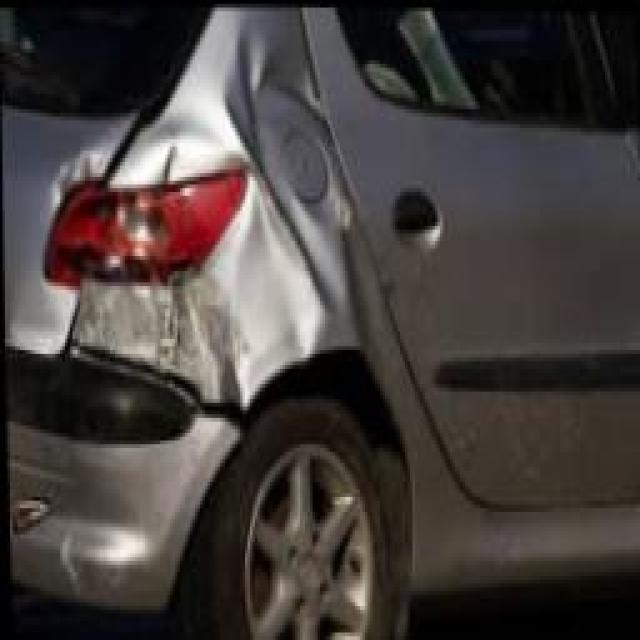replaceable: (49, 39, 349, 382)
